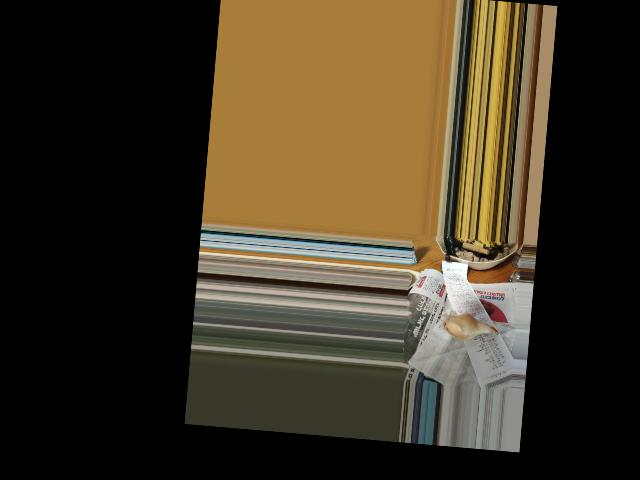onion: (439, 314, 483, 341)
